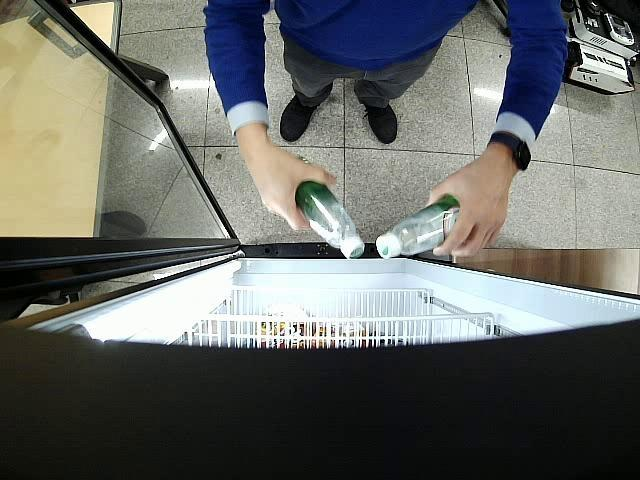18_trevi: (296, 153, 362, 259), (376, 194, 460, 259)
